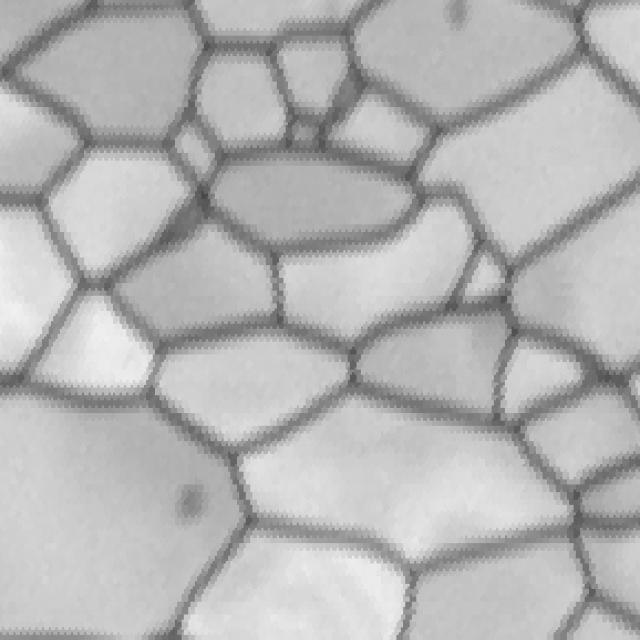good_void: (165, 467, 211, 536), (440, 0, 481, 41)
